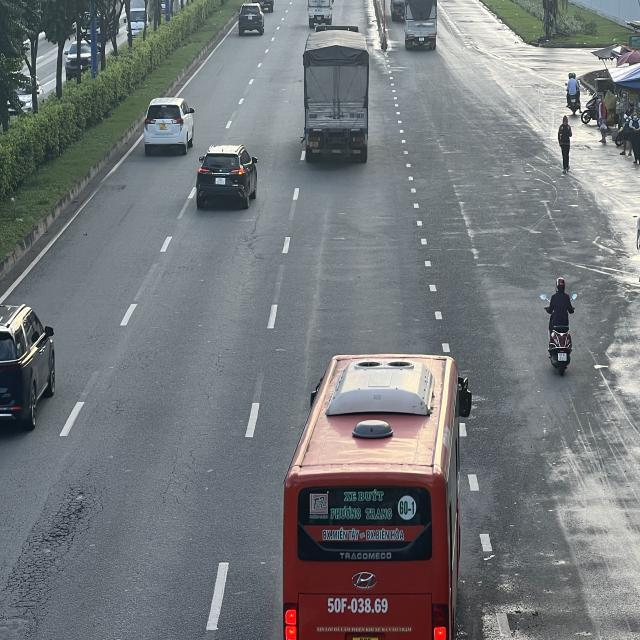car: (197, 146, 260, 212), (146, 99, 198, 154), (238, 2, 266, 33)
coach: (284, 356, 474, 639)
truck: (304, 25, 371, 162), (404, 0, 439, 48), (306, 0, 333, 26)
